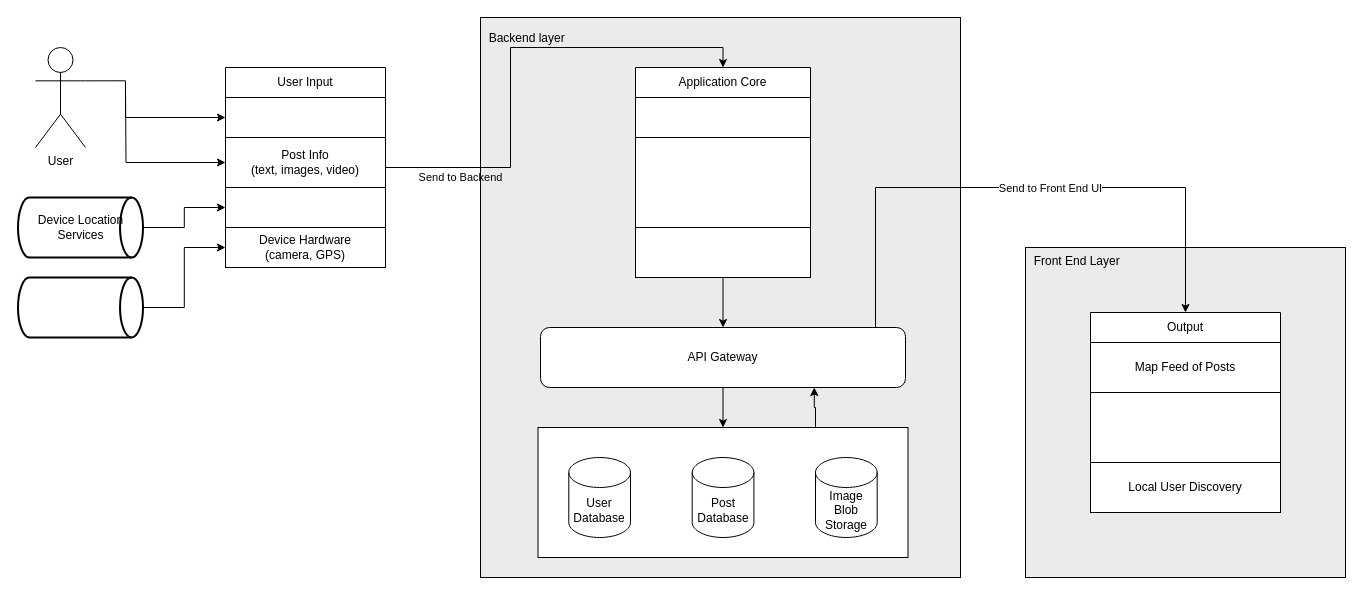
The diagram is 1363 pixels wide and 595 high, and some of its shapes have lost their labels. The shapes that lost their labels are listed below. From the top down, each one's centre as x and y in pixels, then its label:
the point at 305,117: User Info (user, pass)
the point at 722,117: Auth verification for user creds
the point at 722,182: Create & Manage posts
the point at 305,207: Location of Post (geolocation, metadata)
the point at 722,252: Manage permissions for device
the point at 80,307: Device Hardware
the point at 1185,427: Notifications
